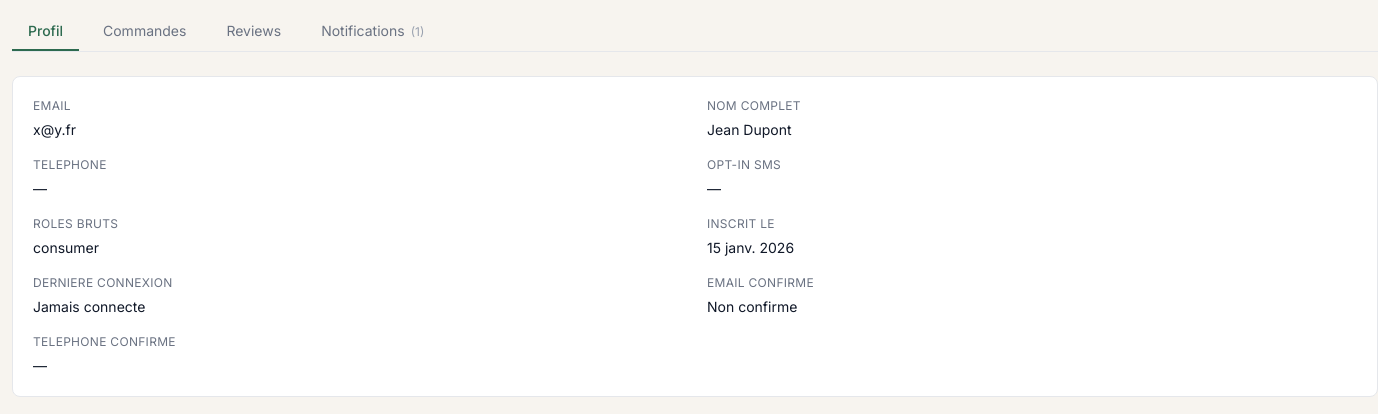
it: UserDetailTabs — clic onglet Notifications › clic Notifications -> panel notifications visible + template lisible
Click the tab "Notifications(1)" at (373, 32), box [305,12,440,51]
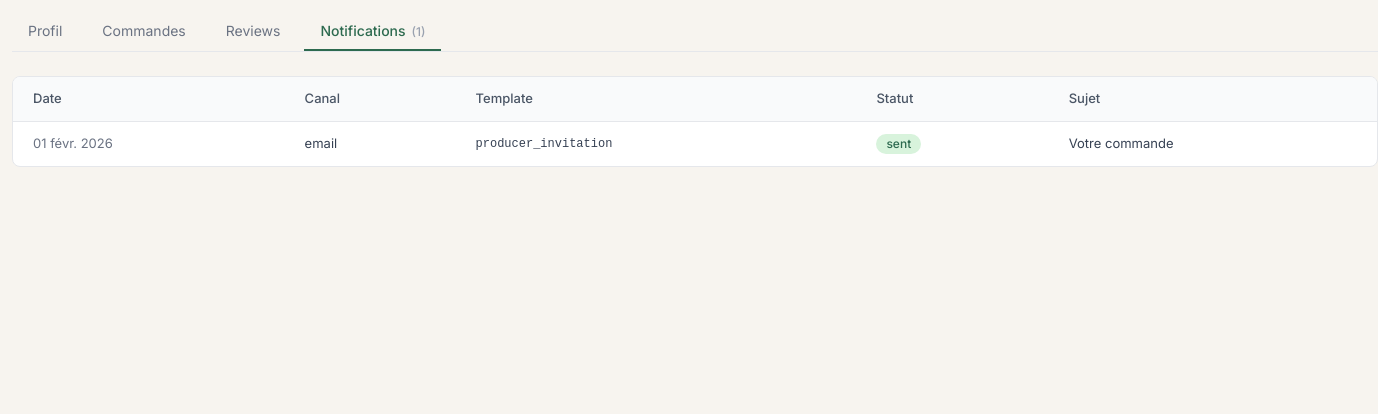
Result: the text "producer_invitation" is shown at [456,121,856,166]
